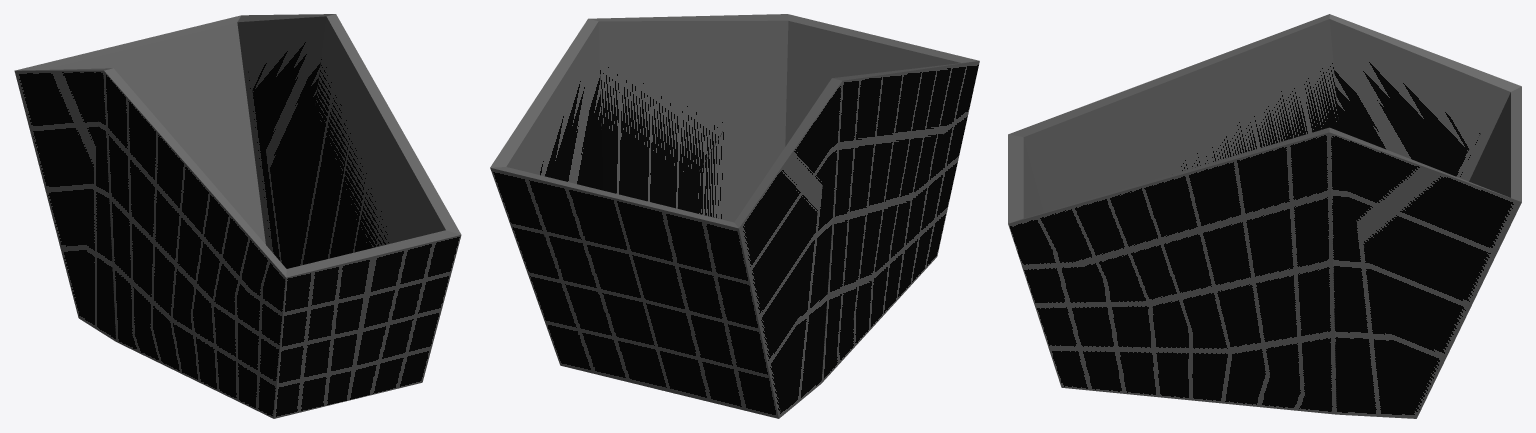
File: itembox.glb
3 views of the same model, side by side, from view 1: azimuth 30°, elevation 25°; view 2: azimuth 150°, elevation 25°; view 3: azimuth 270°, elevation 25° (orthographic). The views are drawn at different scales.
Parts seen in each view (by area): view 1: box; view 2: box; view 3: box.
Part boxes in pixels (<box>): box: <box>14,14,461,418</box>; box: <box>490,14,979,418</box>; box: <box>1008,14,1521,418</box>.
Size of the model in its own units: 0.553 by 0.6422 by 1.01.
Materials: 1 (1 with a texture image).
